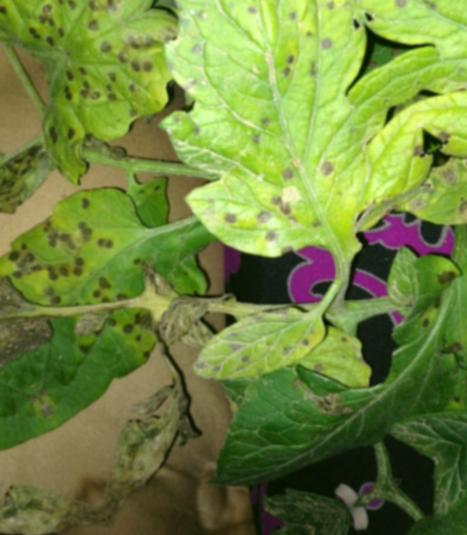Tomato Septoria leaf spot: (100, 0, 458, 305), (169, 227, 467, 527), (0, 0, 238, 198), (0, 163, 189, 360), (148, 266, 346, 424), (384, 158, 467, 252)
